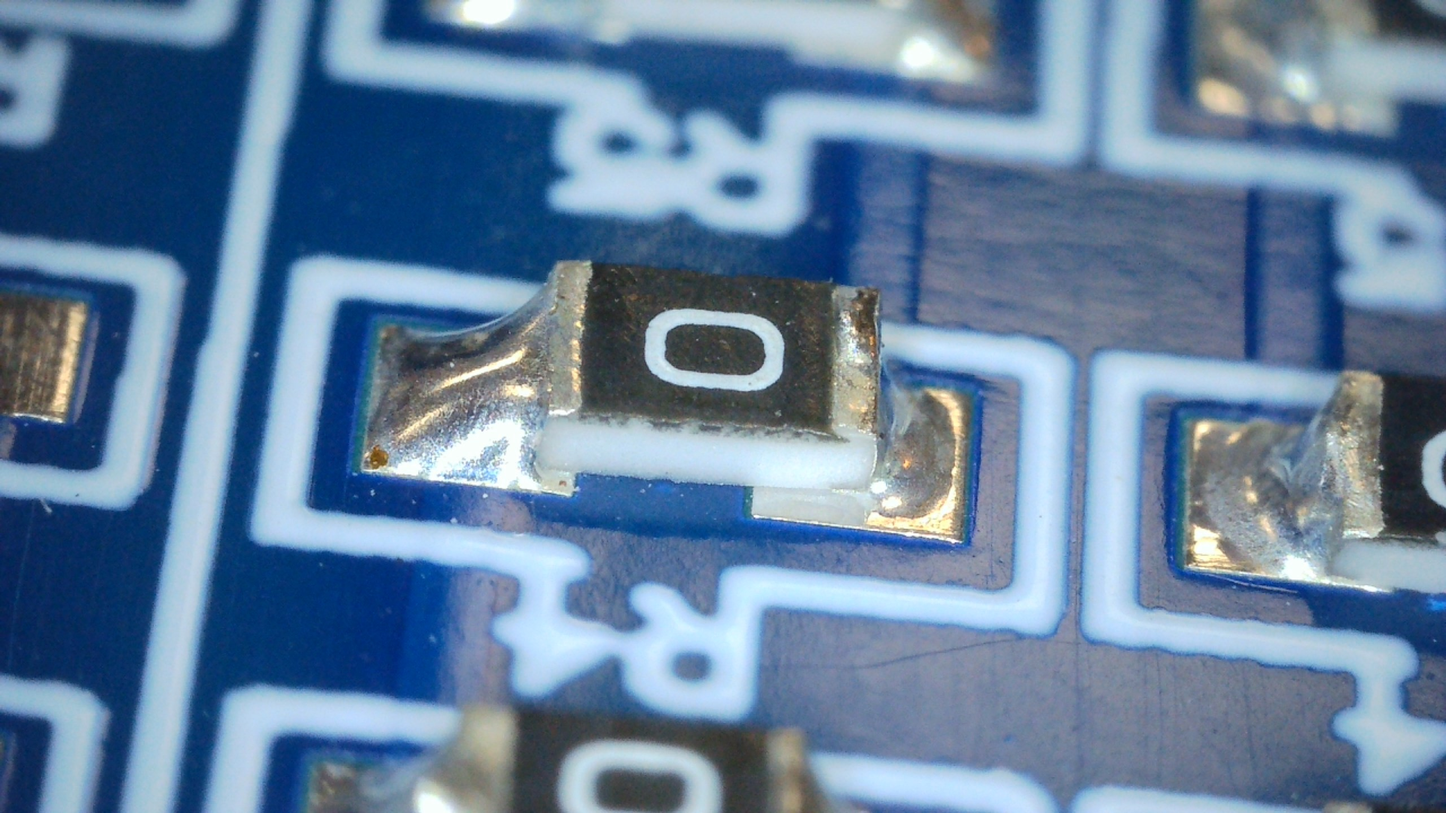NG: (833, 285, 951, 517)
OK: (366, 262, 590, 483)
